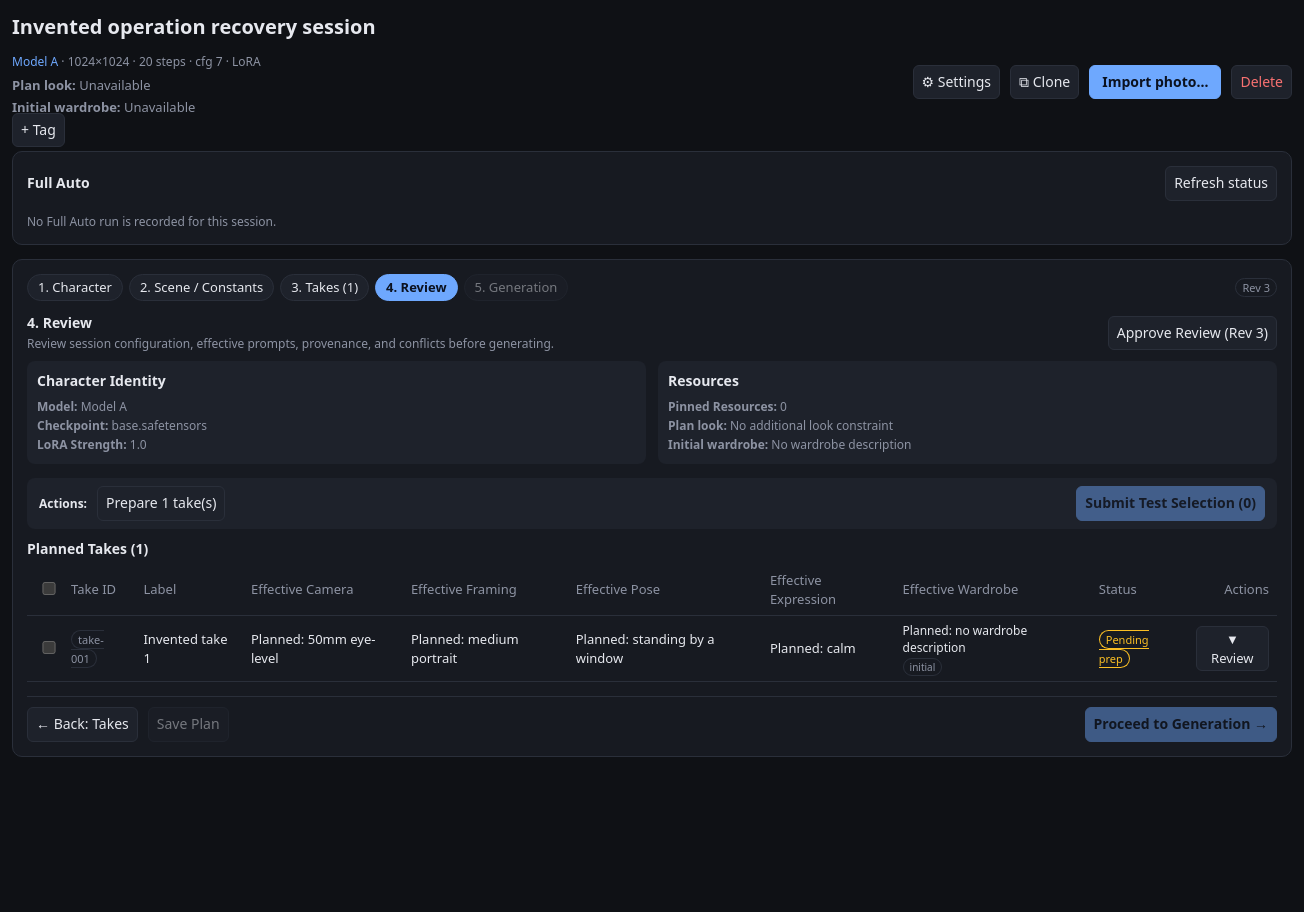
it: Task 8.4 independent transport and identity probes › preparation keeps the frozen request after a 500 with a valid error body
Click the button "Prepare 1 take(s)". click: x=161, y=504
box: [97,486,225,521]
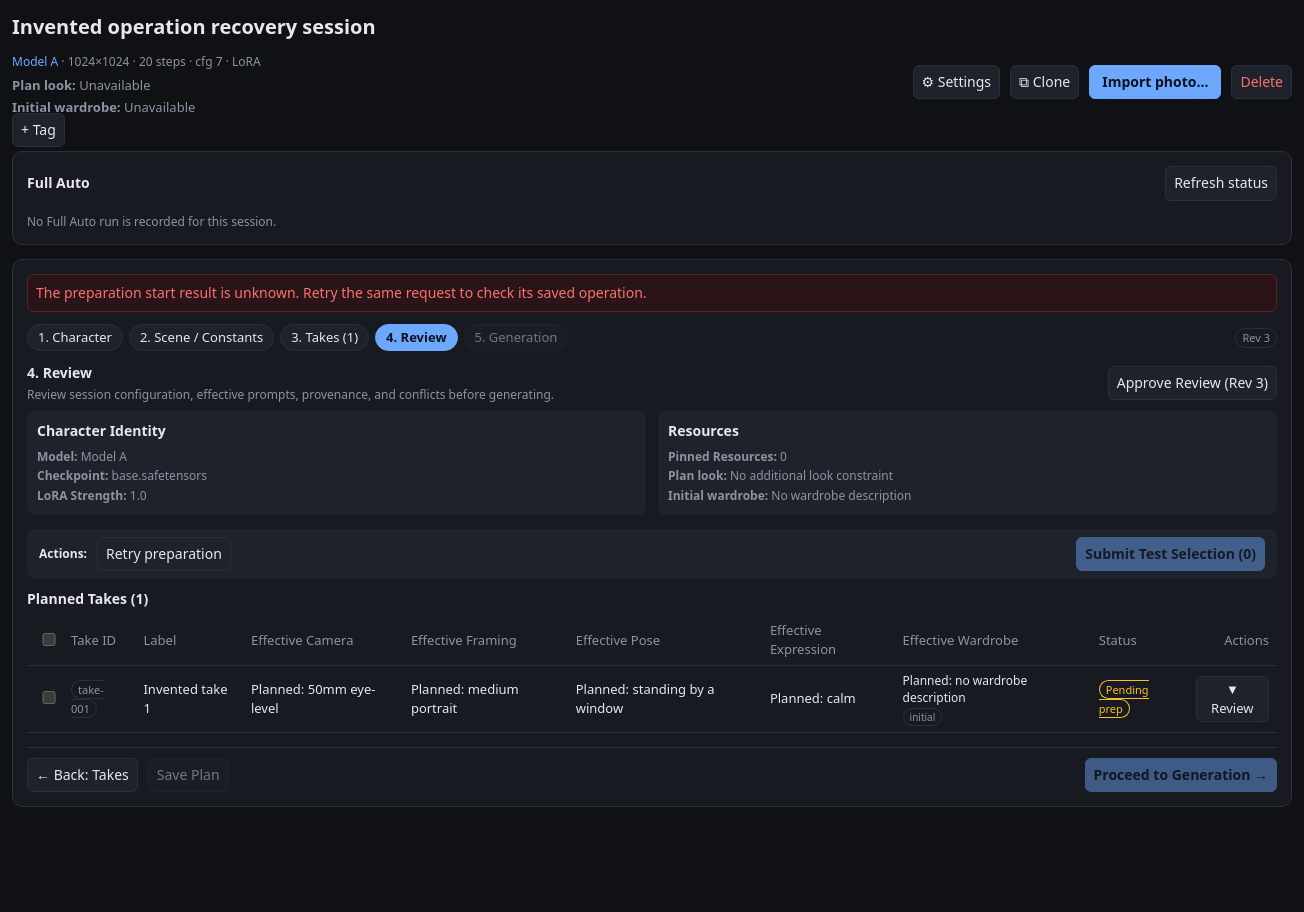
Click the button "Retry preparation". click: x=164, y=554
box: [97,537,231,571]
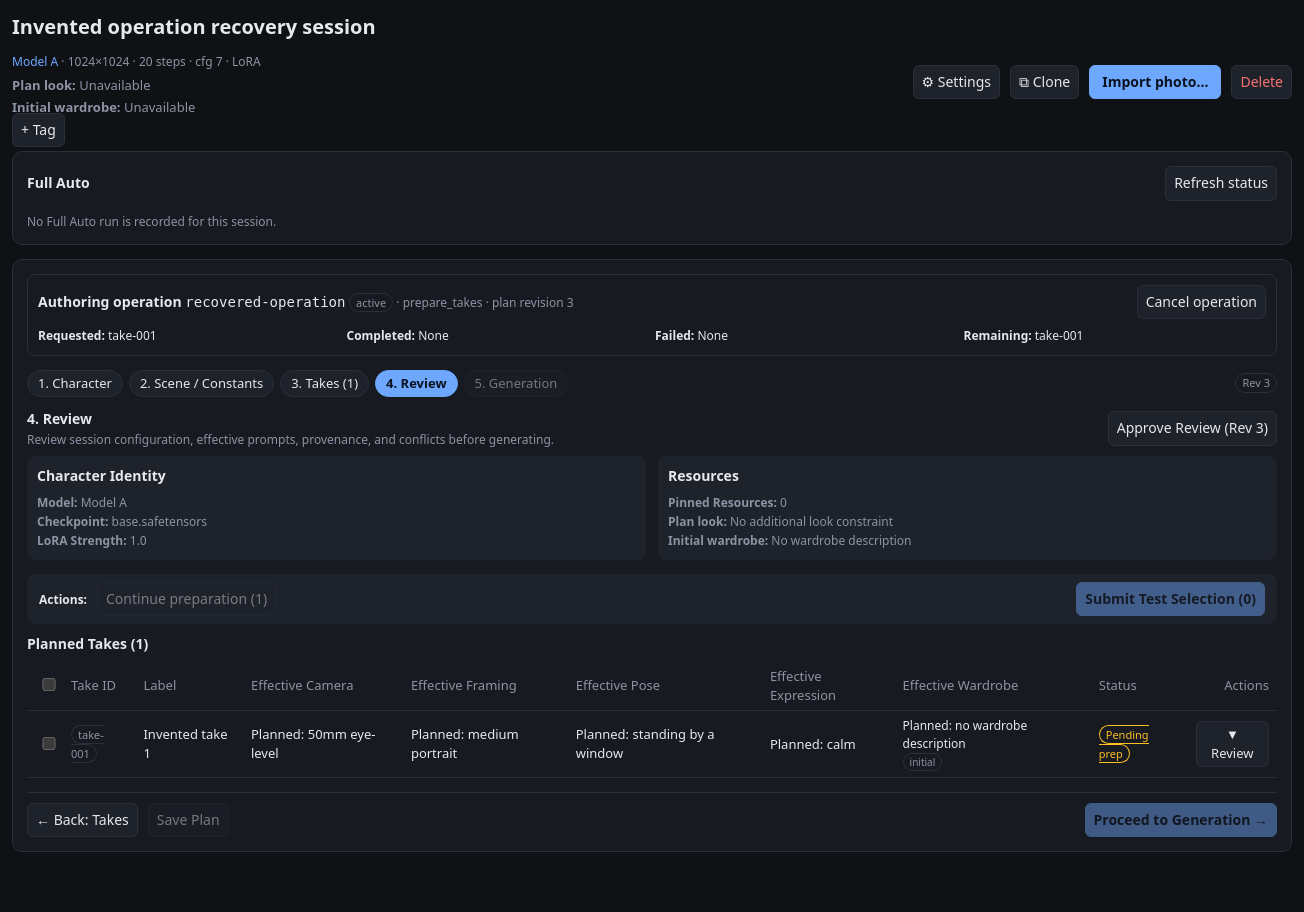
Expected: the element named "Authoring operation" shows "recovered-operation", [185,294,346,310]
